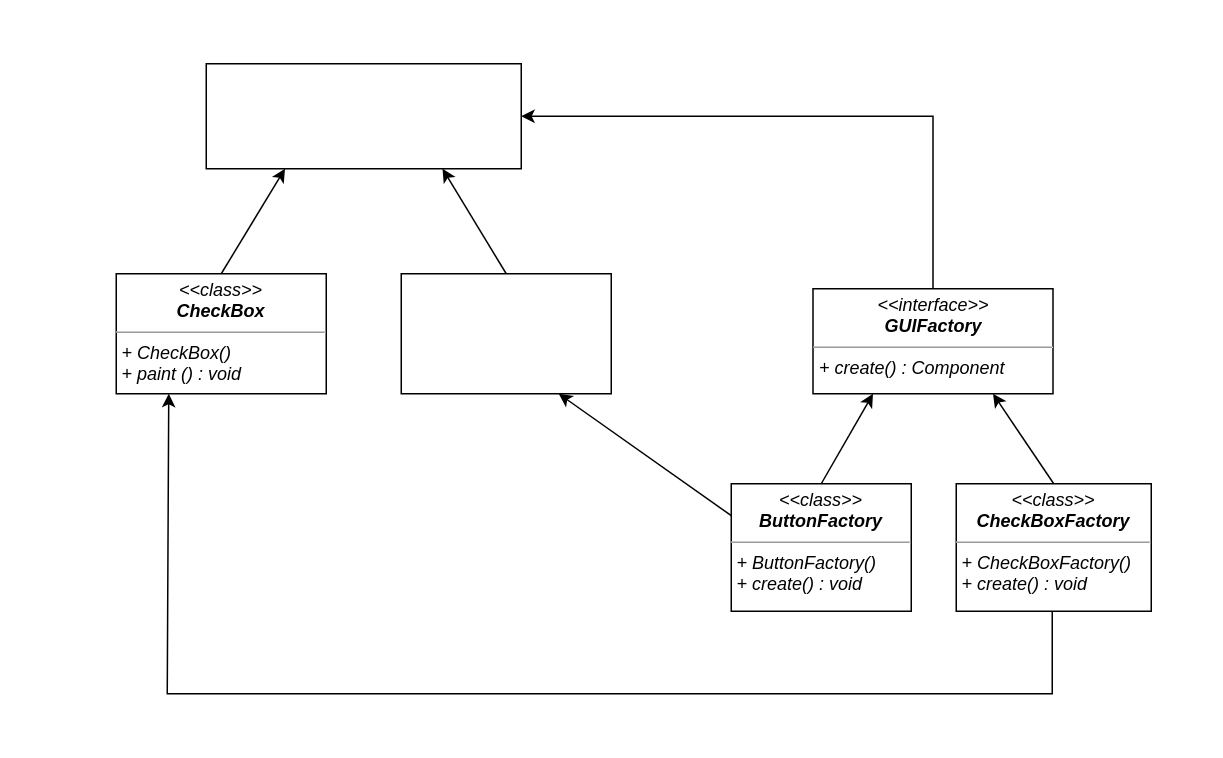
This 1223x758 diagram has some shape labels left out. The centre of each missing label's shape, as x and y in pixels:
<<class>> Button + Button () + paint () : void: (505,333)
<<interface>> Component + paint () : void: (363,115)
